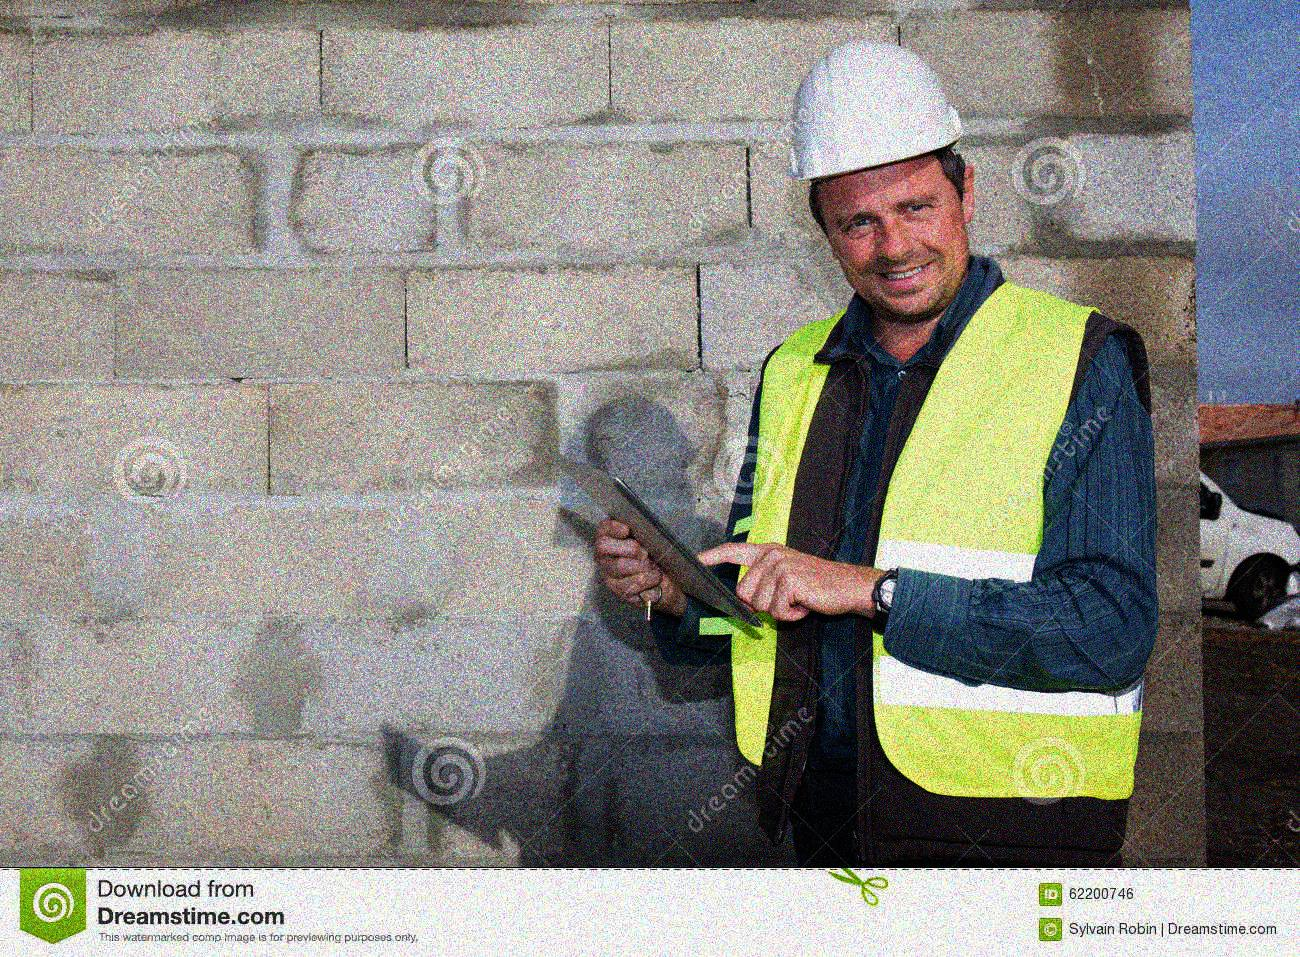helmet: (787, 37, 974, 320)
